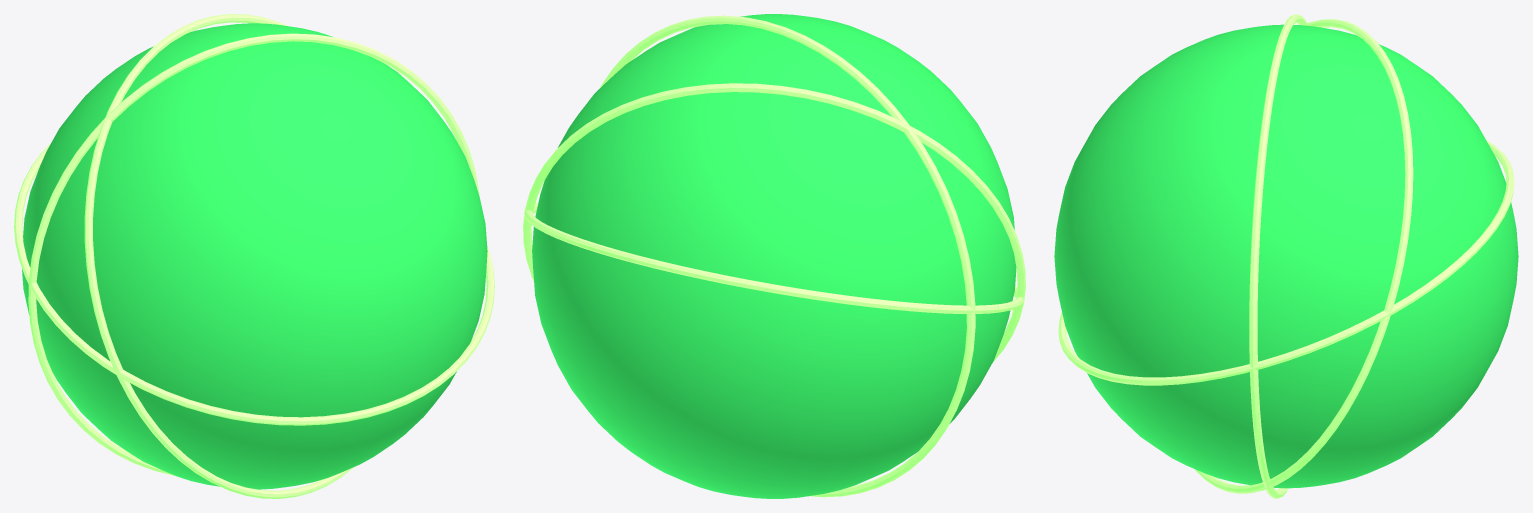
Rendered from green-dog-orb.glb.
3 renders of one model, left to right at view 1: azimuth 30°, elevation 25°; view 2: azimuth 150°, elevation 25°; view 3: azimuth 270°, elevation 25°, orthographic. The views are drawn at different scales.
Parts seen in each view (by area): view 1: Gliding orb, Orb energy ring.002, Orb energy ring.001, Orb energy ring; view 2: Gliding orb, Orb energy ring.002, Orb energy ring.001, Orb energy ring; view 3: Gliding orb, Orb energy ring.001, Orb energy ring, Orb energy ring.002.
Part boxes in pixels (x1,y1,x2,y2): Gliding orb: (22,23,487,489); Orb energy ring.002: (28,33,479,475); Orb energy ring.001: (84,14,353,498); Orb energy ring: (14,142,494,425); Gliding orb: (532,14,1016,498); Orb energy ring.002: (600,15,975,497); Orb energy ring.001: (523,83,1025,362); Orb energy ring: (524,202,1024,313); Gliding orb: (1054,24,1518,488); Orb energy ring.001: (1194,19,1413,493); Orb energy ring: (1058,140,1514,385); Orb energy ring.002: (1249,14,1307,498).
Size of the model in its own units: 1.51 by 1.51 by 1.44.
